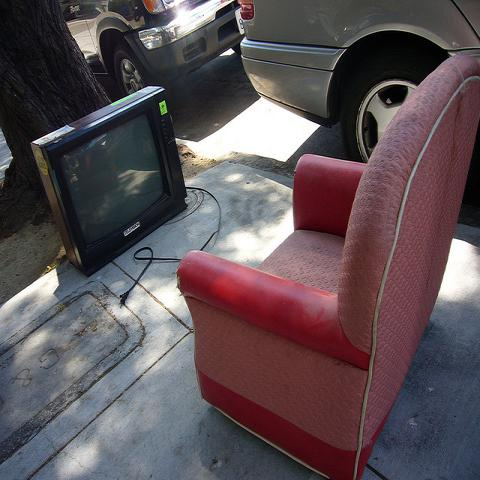car: (241, 2, 479, 163), (56, 0, 241, 95)
